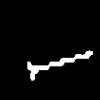half_double_crochet: (28, 51, 92, 79)
